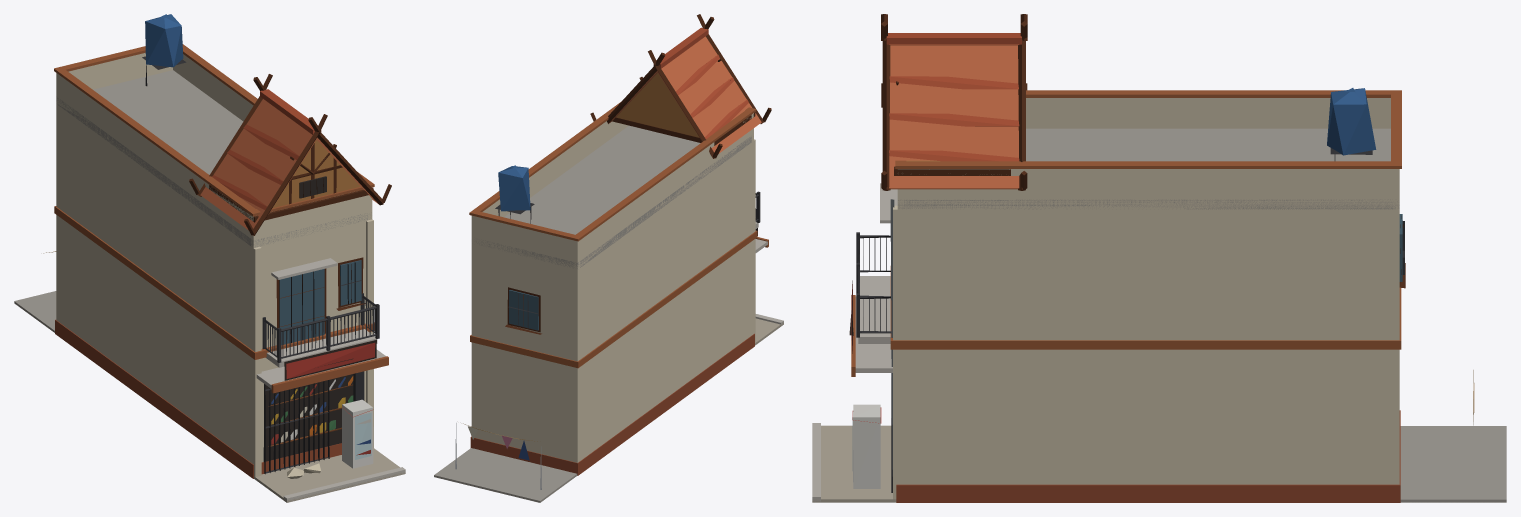
Rendered from bay1_mid2.glb.
The picture shows the model from 3 angles, left to right: view 1: azimuth 30°, elevation 25°; view 2: azimuth 150°, elevation 25°; view 3: azimuth 270°, elevation 25°; orthographic projection. The views are drawn at different scales.
Parts seen in each view (by area): view 1: body, windows; view 2: body, windows; view 3: body.
Part boxes in pixels (x1=…): body: x1=14, y1=14, x2=405, y2=502; windows: x1=264, y1=176, x2=361, y2=461; body: x1=434, y1=14, x2=783, y2=502; windows: x1=509, y1=290, x2=538, y2=330; body: x1=812, y1=14, x2=1506, y2=502.
Size of the model in its own units: 4.98 by 11.33 by 15.9.
